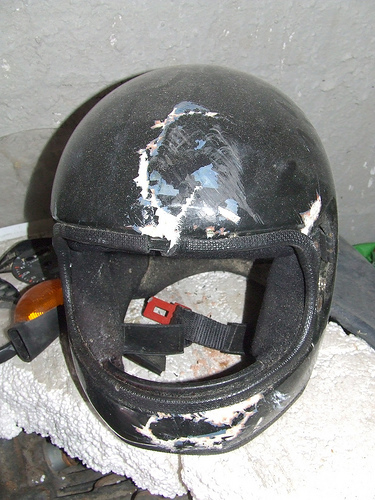helmet: (57, 83, 349, 418)
